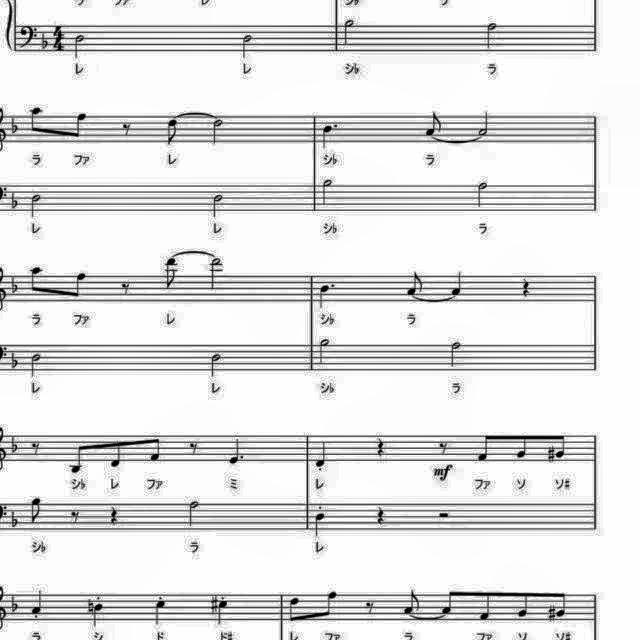Bass-clef: (16, 22, 40, 50)
Bemol: (9, 588, 23, 616), (8, 268, 20, 296), (7, 348, 21, 372), (7, 187, 21, 210), (8, 112, 20, 138), (7, 507, 20, 531), (38, 32, 52, 52), (7, 434, 21, 454)
Diez: (545, 600, 561, 624)
Eighth-note: (65, 108, 91, 144), (64, 268, 90, 302), (66, 439, 88, 477), (321, 589, 344, 623), (161, 255, 181, 293), (27, 103, 48, 139), (401, 586, 425, 616), (27, 262, 47, 298), (476, 586, 496, 622), (108, 433, 128, 469), (475, 429, 495, 463), (404, 268, 428, 296), (420, 110, 444, 138), (145, 432, 165, 464), (164, 118, 184, 150), (511, 430, 531, 462), (512, 586, 532, 618), (285, 592, 303, 626), (27, 494, 46, 526), (552, 430, 570, 462), (439, 586, 458, 616), (554, 588, 570, 620)
Eighth-rest: (116, 117, 136, 139), (436, 434, 452, 461), (360, 596, 378, 618), (66, 507, 84, 529), (116, 278, 134, 298), (28, 438, 44, 459), (185, 438, 201, 459)
Half-note: (206, 256, 226, 294), (317, 176, 337, 212), (482, 17, 502, 51), (471, 178, 491, 212), (208, 190, 228, 222), (314, 336, 334, 368), (446, 338, 466, 370), (208, 116, 228, 148), (340, 16, 360, 48), (238, 31, 258, 61), (184, 498, 202, 530), (207, 349, 226, 379), (27, 189, 45, 219), (476, 107, 494, 137), (71, 31, 89, 60), (28, 349, 44, 379)
Half-rest: (436, 508, 454, 524)
Quarter-dot: (314, 278, 338, 310), (318, 120, 342, 152), (225, 436, 248, 468)
Quarter-note: (28, 586, 48, 620), (313, 438, 332, 472), (150, 596, 170, 628), (212, 594, 232, 626), (448, 268, 468, 298), (311, 510, 329, 540), (90, 598, 106, 630)
Quarter-rest: (371, 500, 389, 526), (518, 276, 536, 300), (106, 503, 122, 529), (372, 432, 388, 458)
